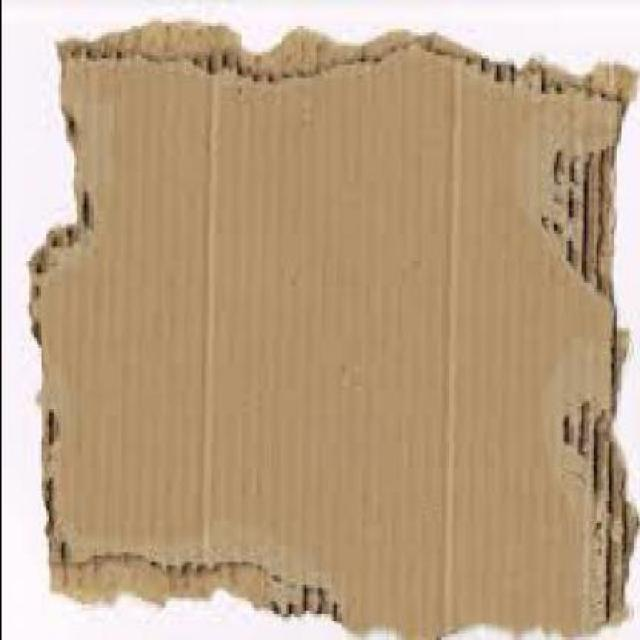CARDBOARD: (32, 20, 638, 638)
